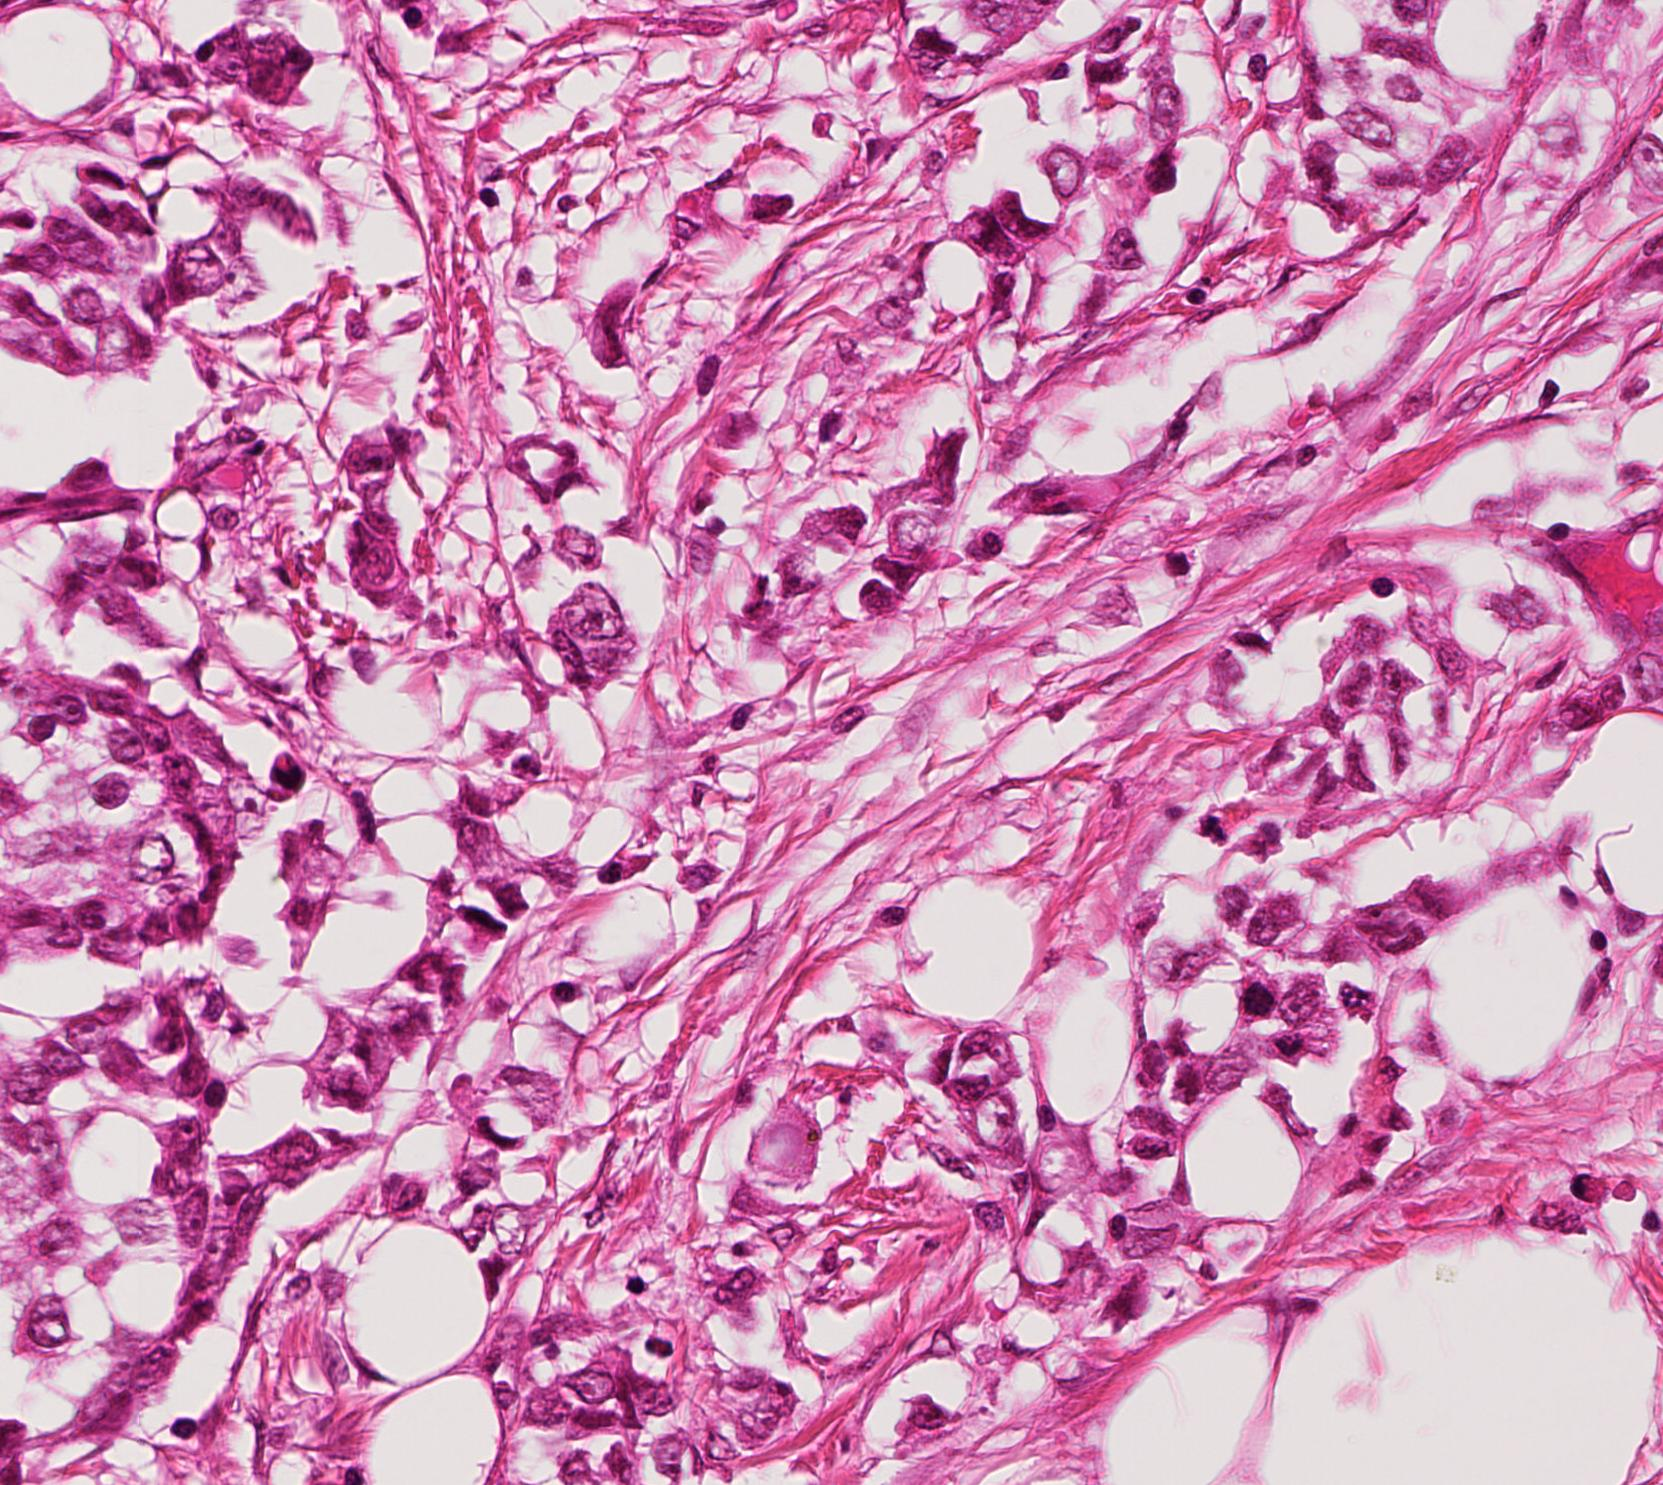mitosis: (1223, 968, 1283, 1028)
